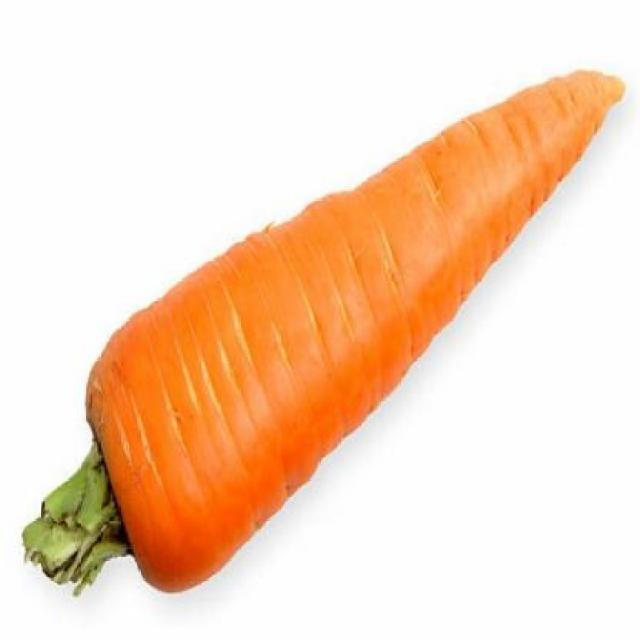carrot: (73, 46, 633, 608)
